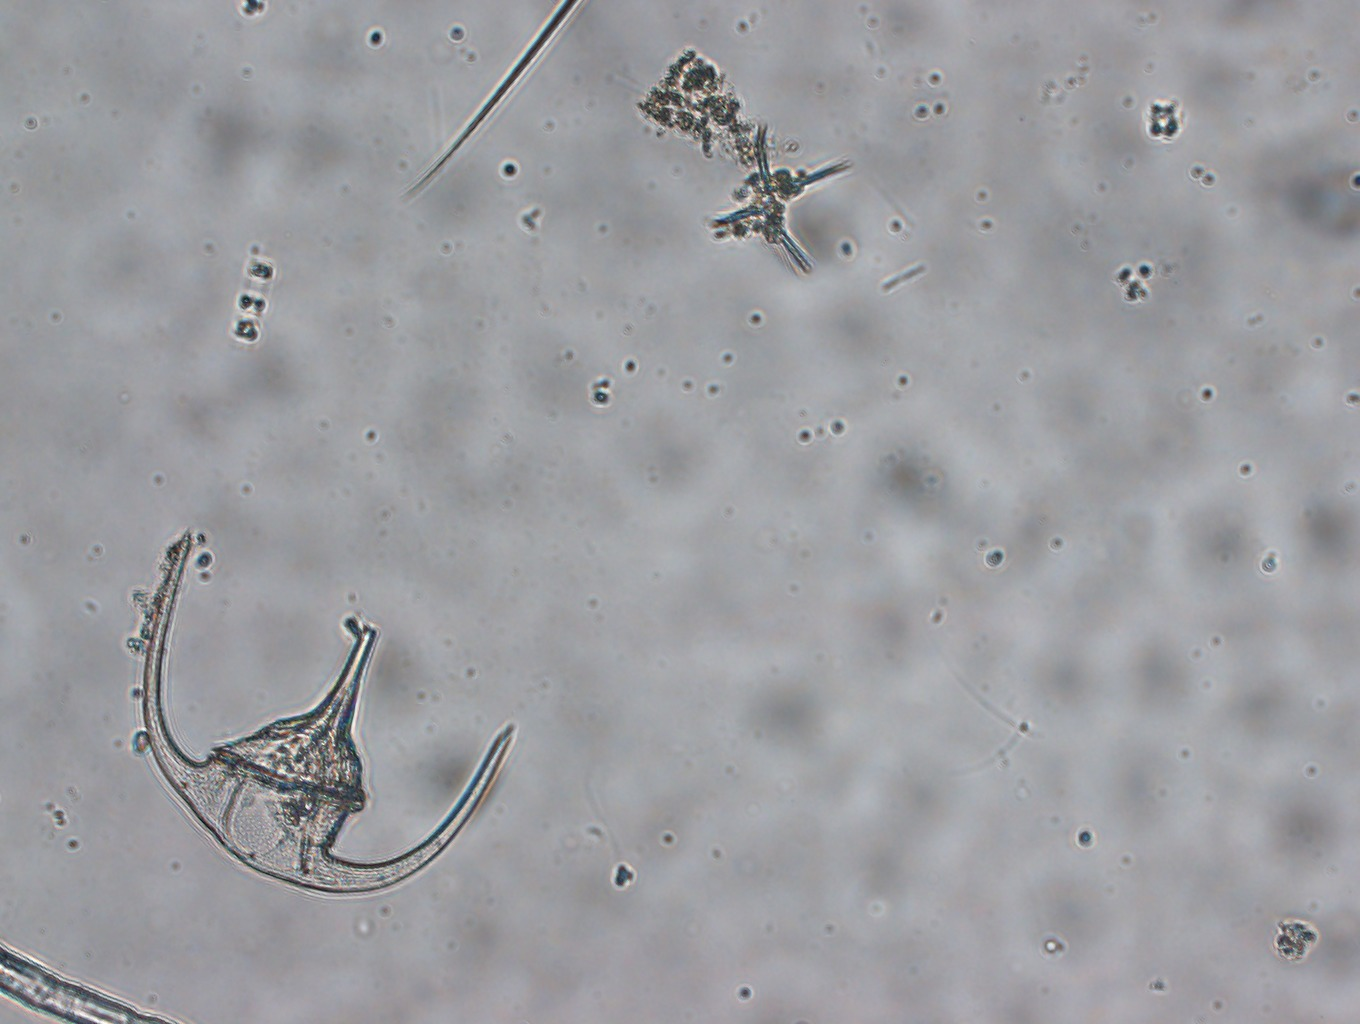ceratium tripos: (139, 529, 516, 896)
skeletonema: (229, 255, 276, 346)
